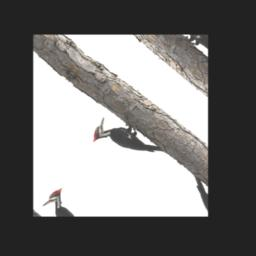Woodpecker: (88, 108, 165, 183)
